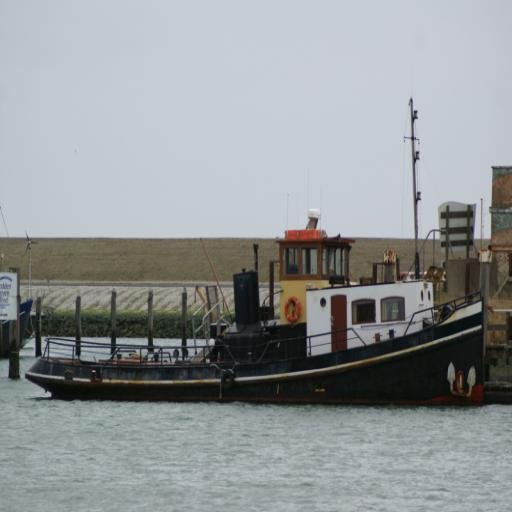tugboat: (24, 166, 492, 422)
